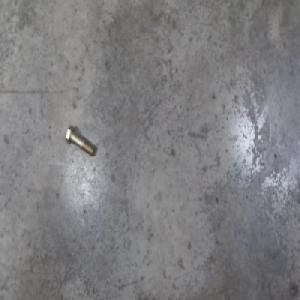Bolt: (65, 124, 96, 158)
